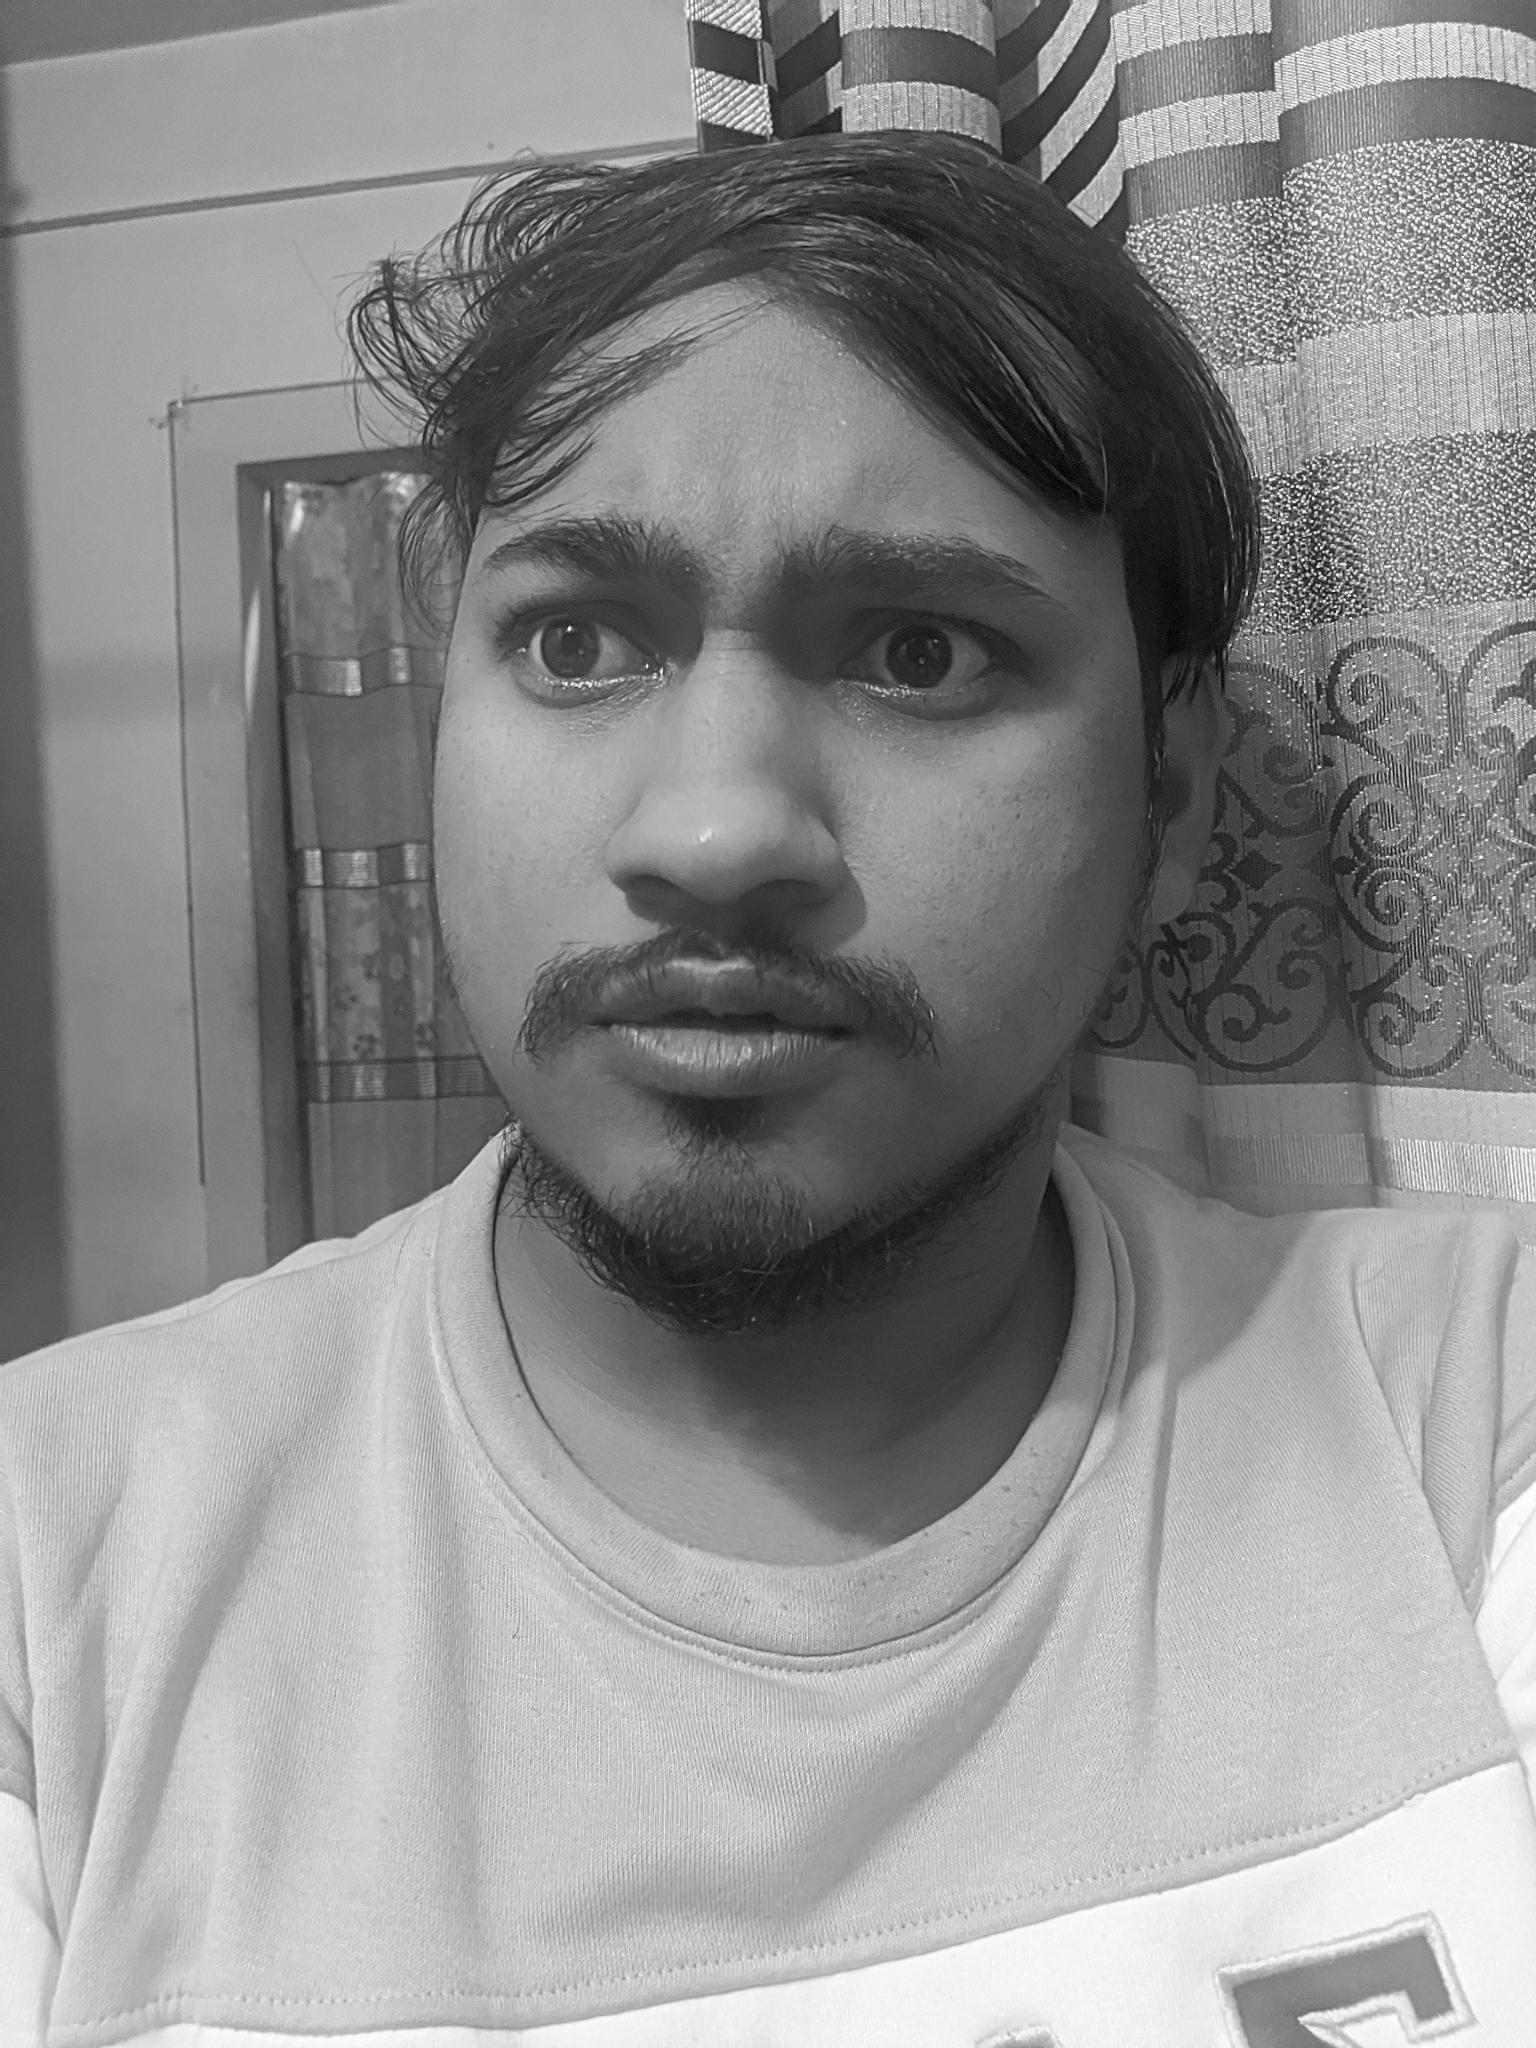Angry: (423, 402, 1120, 1269)
